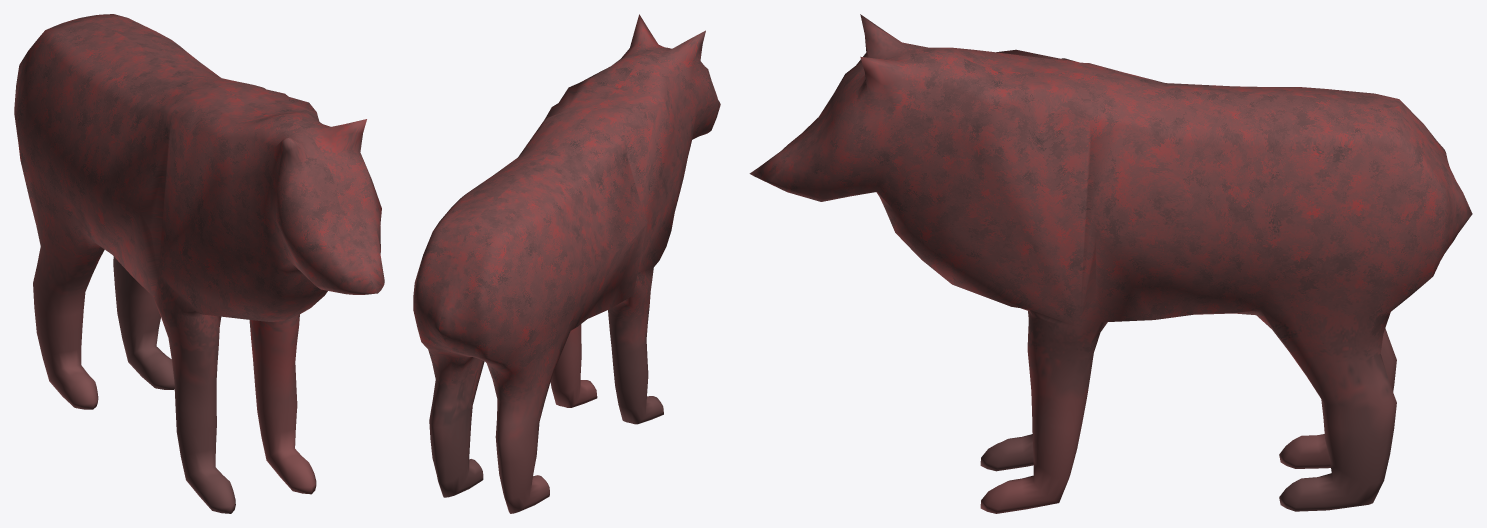
The model's file is piesblend_000038.obj.
3 renders of one model, left to right at view 1: azimuth 30°, elevation 25°; view 2: azimuth 150°, elevation 25°; view 3: azimuth 270°, elevation 25°, orthographic. The views are drawn at different scales.
Parts seen in each view (by area): view 1: Cube; view 2: Cube; view 3: Cube.
Part boxes in pixels (x1=…): Cube: x1=14, y1=14, x2=384, y2=513; Cube: x1=413, y1=14, x2=720, y2=513; Cube: x1=749, y1=14, x2=1472, y2=513.
Bounding box in the file's own units: 2.55 × 6.19 × 8.98.
Materials: 1 (1 with a texture image).
